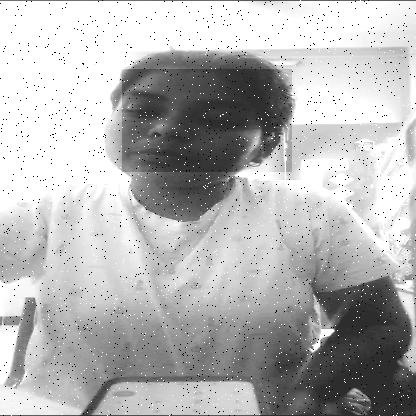Distracted: (122, 69, 292, 172)
